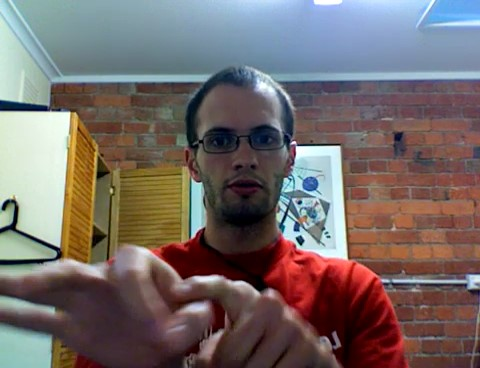Q: (2, 243, 338, 368)
